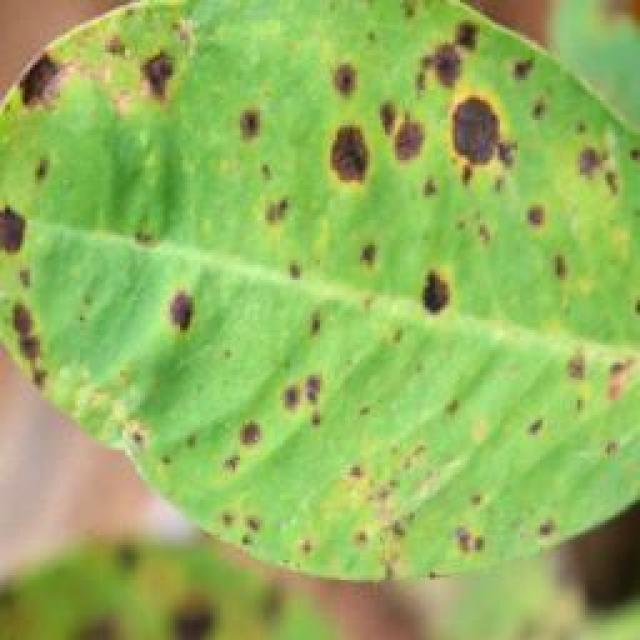Yellowish: (0, 0, 640, 573)
